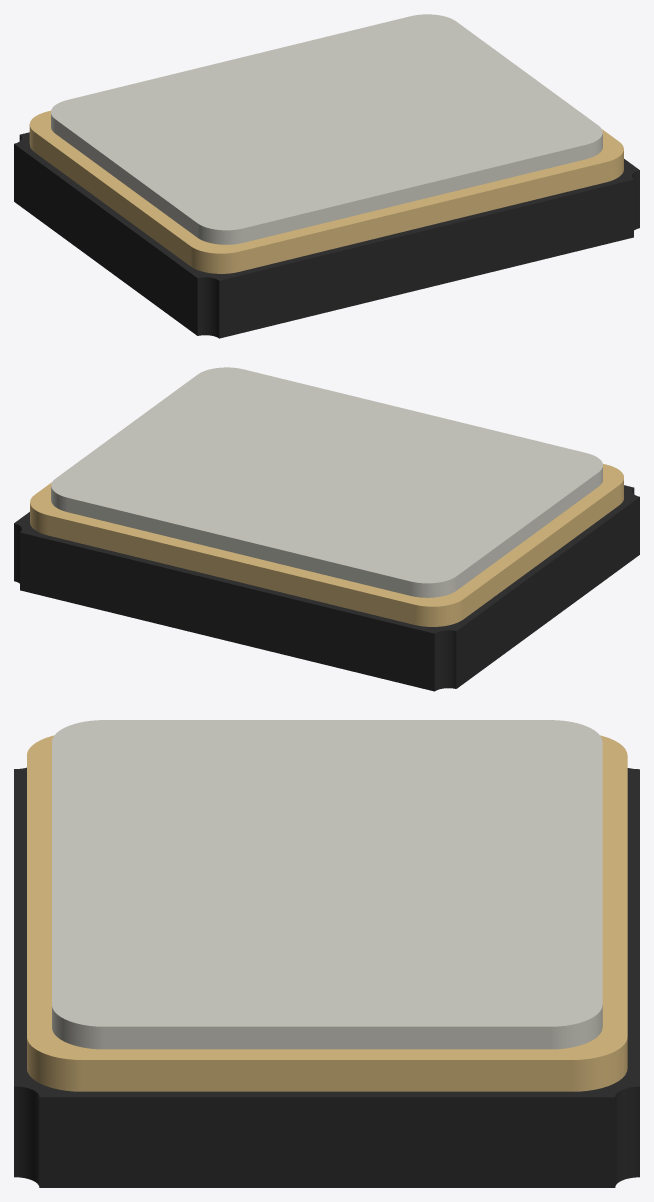
Rendered from crystal-3225.glb.
3 renders of one model, top to bottom at view 1: azimuth 30°, elevation 25°; view 2: azimuth 150°, elevation 25°; view 3: azimuth 270°, elevation 25°, orthographic. The views are drawn at different scales.
Parts seen in each view (by area): view 1: Crystal_SMD_3225-4Pin_3.2x2.5mm_cc3183, Crystal_SMD_3225-4Pin_3.2x2.5mm_5c694d, Crystal_SMD_3225-4Pin_3.2x2.5mm_bb00cf; view 2: Crystal_SMD_3225-4Pin_3.2x2.5mm_cc3183, Crystal_SMD_3225-4Pin_3.2x2.5mm_5c694d, Crystal_SMD_3225-4Pin_3.2x2.5mm_bb00cf; view 3: Crystal_SMD_3225-4Pin_3.2x2.5mm_cc3183, Crystal_SMD_3225-4Pin_3.2x2.5mm_5c694d, Crystal_SMD_3225-4Pin_3.2x2.5mm_bb00cf.
Boxes of the visible parts, box(x1,y1,x2,y2) form: Crystal_SMD_3225-4Pin_3.2x2.5mm_cc3183: box(51, 14, 602, 244); Crystal_SMD_3225-4Pin_3.2x2.5mm_5c694d: box(14, 132, 639, 338); Crystal_SMD_3225-4Pin_3.2x2.5mm_bb00cf: box(29, 110, 623, 273); Crystal_SMD_3225-4Pin_3.2x2.5mm_cc3183: box(51, 367, 602, 597); Crystal_SMD_3225-4Pin_3.2x2.5mm_5c694d: box(14, 485, 639, 691); Crystal_SMD_3225-4Pin_3.2x2.5mm_bb00cf: box(30, 464, 623, 626); Crystal_SMD_3225-4Pin_3.2x2.5mm_cc3183: box(52, 720, 602, 1049); Crystal_SMD_3225-4Pin_3.2x2.5mm_5c694d: box(14, 767, 639, 1187); Crystal_SMD_3225-4Pin_3.2x2.5mm_bb00cf: box(27, 735, 627, 1091).
Size of the model in its own units: 3.2 by 0.64 by 2.5.
